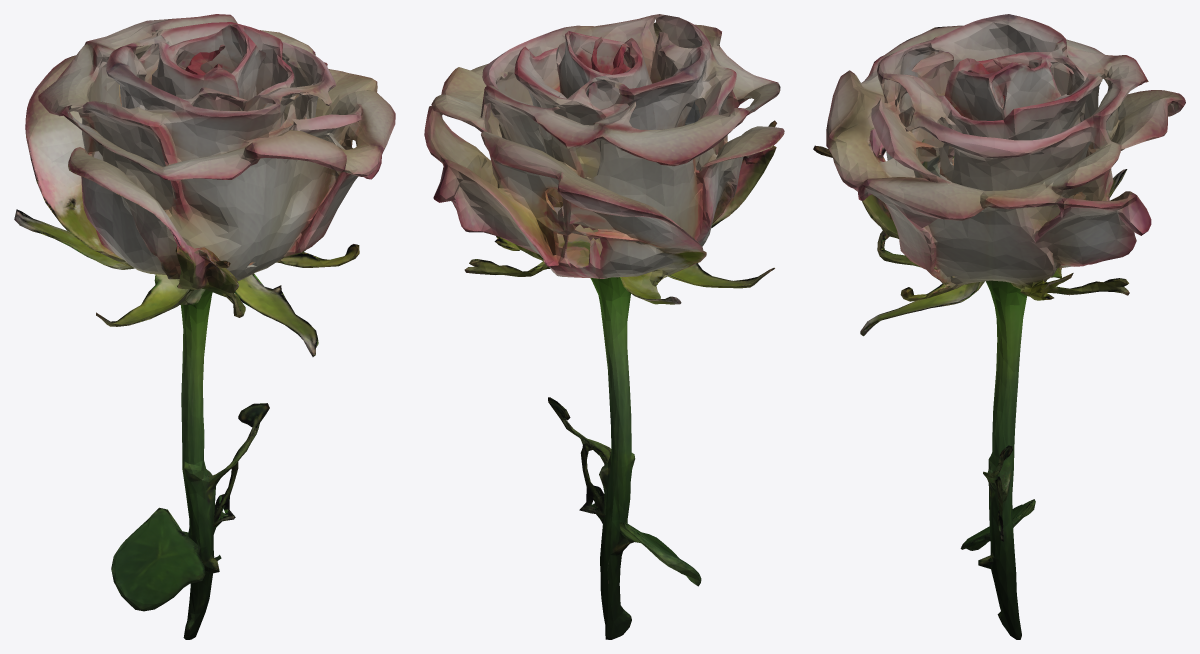
The picture shows the model from 3 angles, left to right: view 1: azimuth 30°, elevation 25°; view 2: azimuth 150°, elevation 25°; view 3: azimuth 270°, elevation 25°; orthographic projection.
Visible parts, largest first — view 1: world; view 2: world; view 3: world.
Boxes of the visible parts, x1,y1,x2,y2 form: world: [14, 14, 395, 639]; world: [424, 14, 784, 639]; world: [813, 14, 1185, 639].
Size of the model in its own units: 0.5219 by 0.9512 by 0.5379.
Materials: 1 (1 with a texture image).
